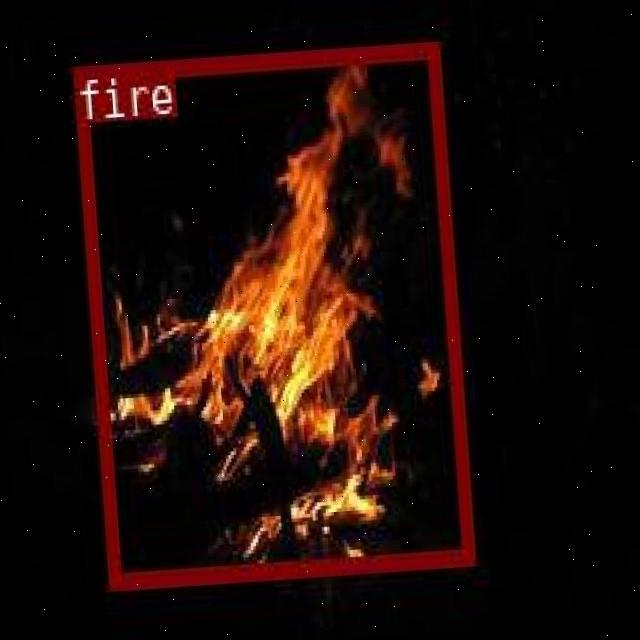fire: (70, 40, 473, 588)
